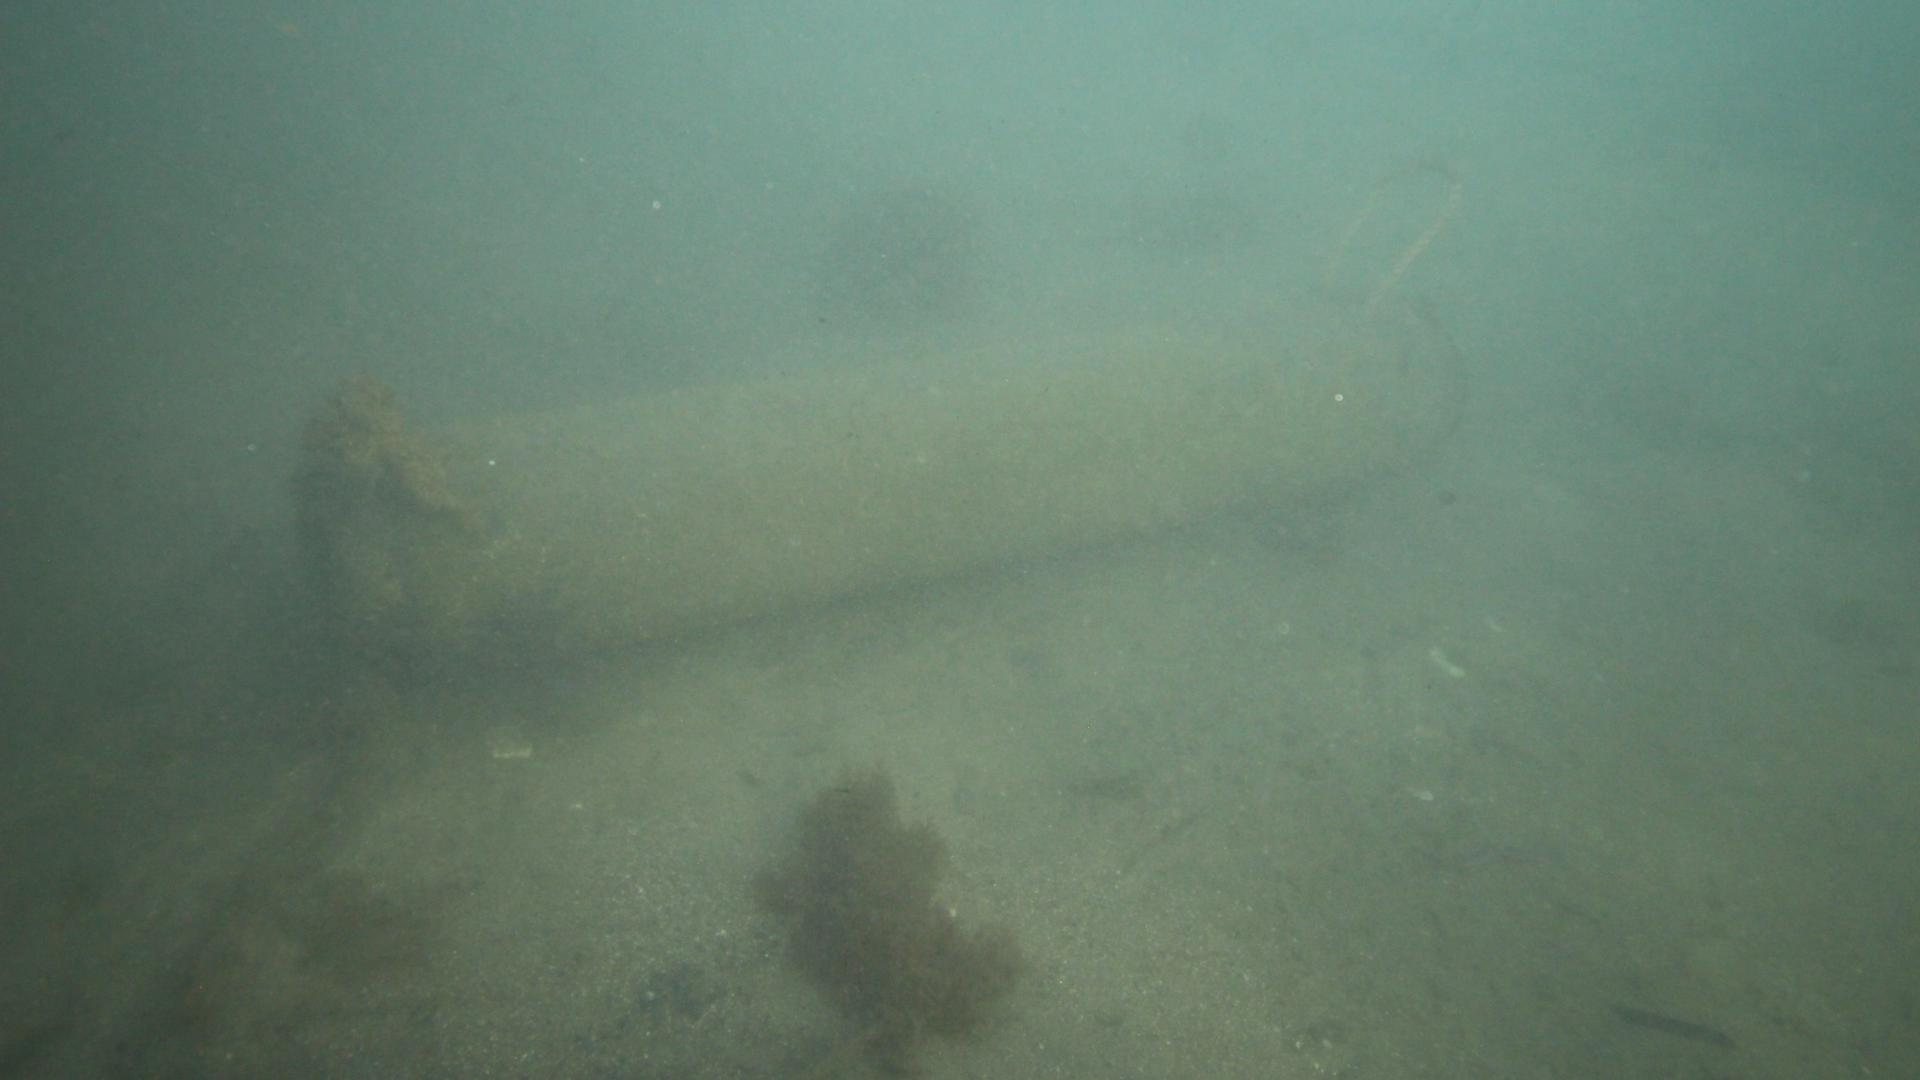eel fish trap: (297, 287, 1468, 675)
rope: (1321, 154, 1468, 305)
